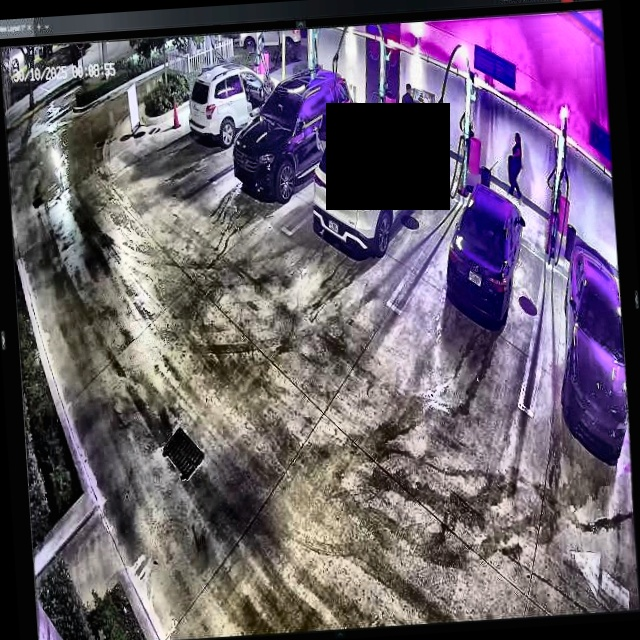Car: (307, 110, 434, 255), (230, 67, 357, 199), (437, 171, 529, 326), (184, 58, 284, 147)
